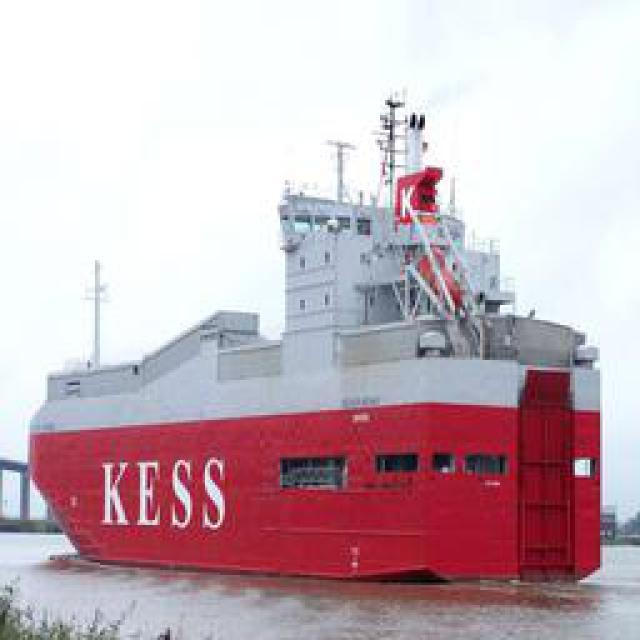Ship: (11, 80, 626, 601)
